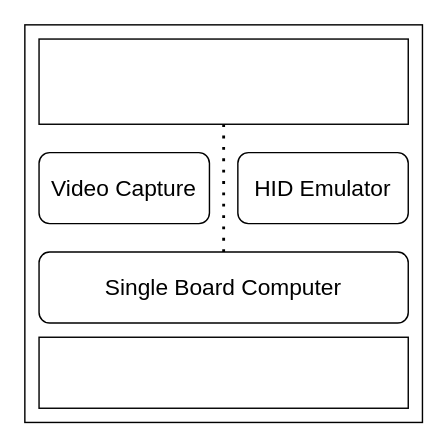
Image size: 447x447. Some labels were removed from this diagram. Each missing label, with the centre of its shape:
USB 3.x Hub: point 223,81
WiFi/GSM: point 223,372
